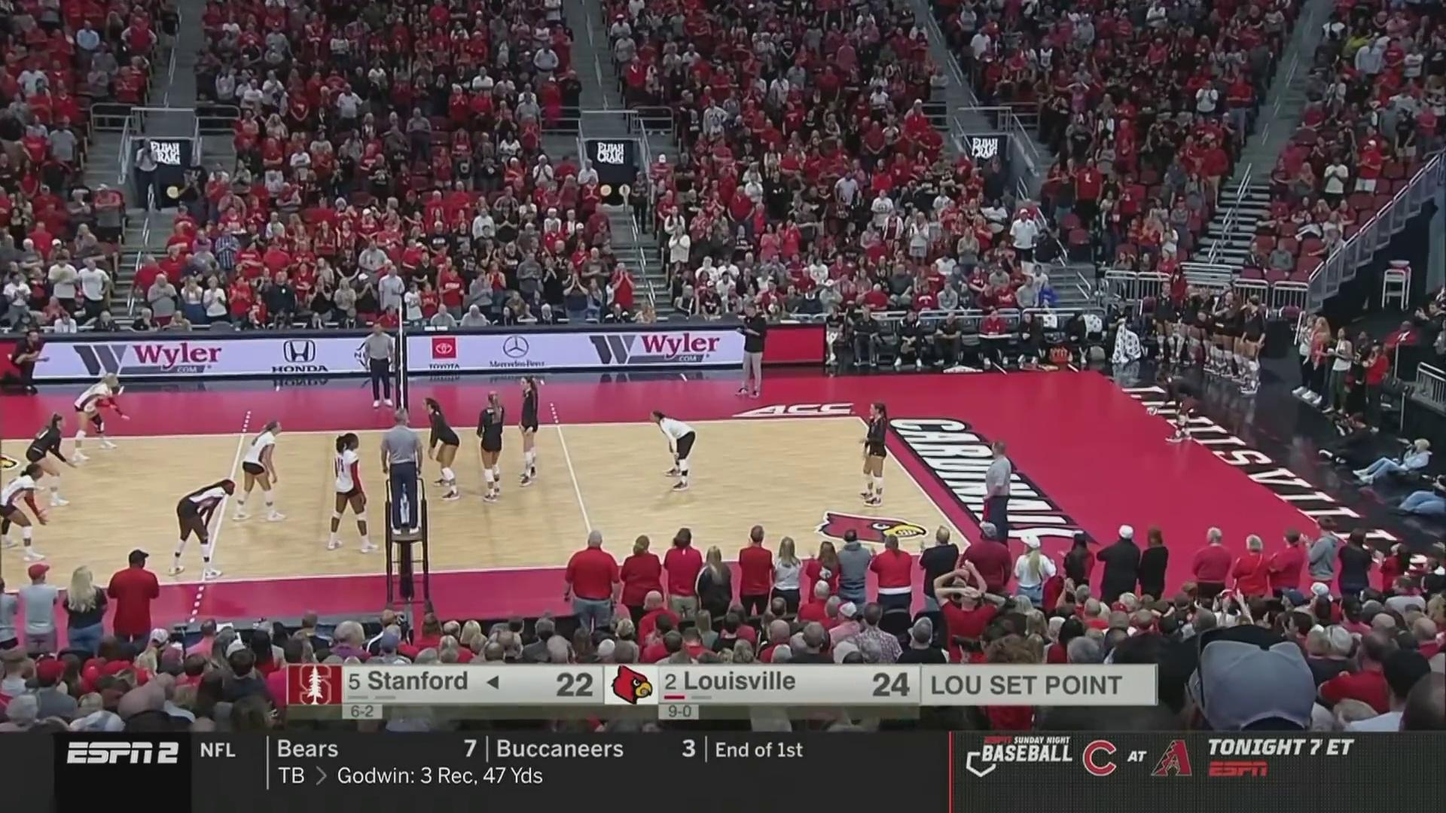player: (169, 482, 235, 576), (324, 433, 376, 550), (232, 418, 288, 523), (70, 376, 127, 463), (0, 467, 49, 559), (26, 414, 75, 505), (649, 407, 698, 487), (422, 397, 460, 498), (1151, 373, 1202, 442), (859, 398, 891, 507), (476, 393, 508, 498), (517, 376, 541, 487)
refree: (383, 410, 423, 532), (984, 440, 1011, 565), (366, 321, 394, 403)
